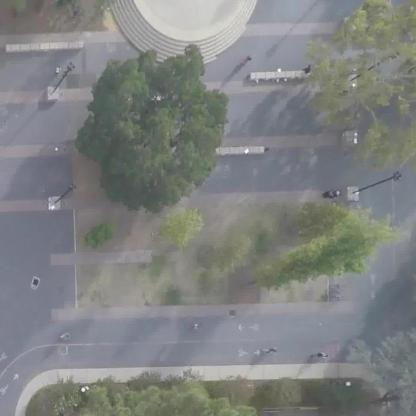Bicyclist: (306, 347, 338, 366), (248, 343, 280, 359), (53, 324, 75, 344), (185, 320, 207, 336)
Pedestrian: (49, 59, 78, 92), (297, 61, 317, 86), (240, 51, 256, 73)
